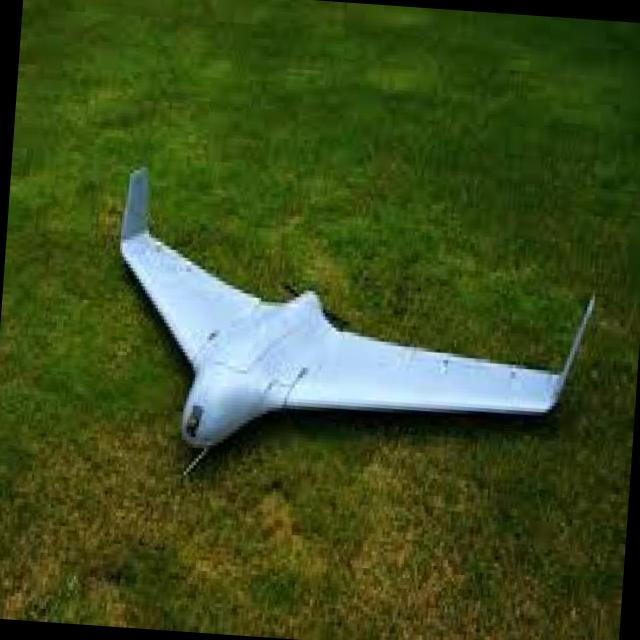UAV: (37, 185, 602, 490)
